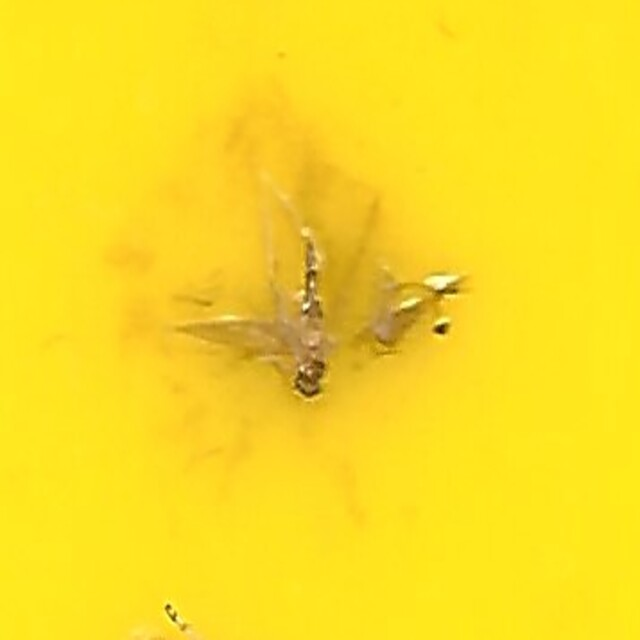Trichoptera: (179, 232, 461, 408)
